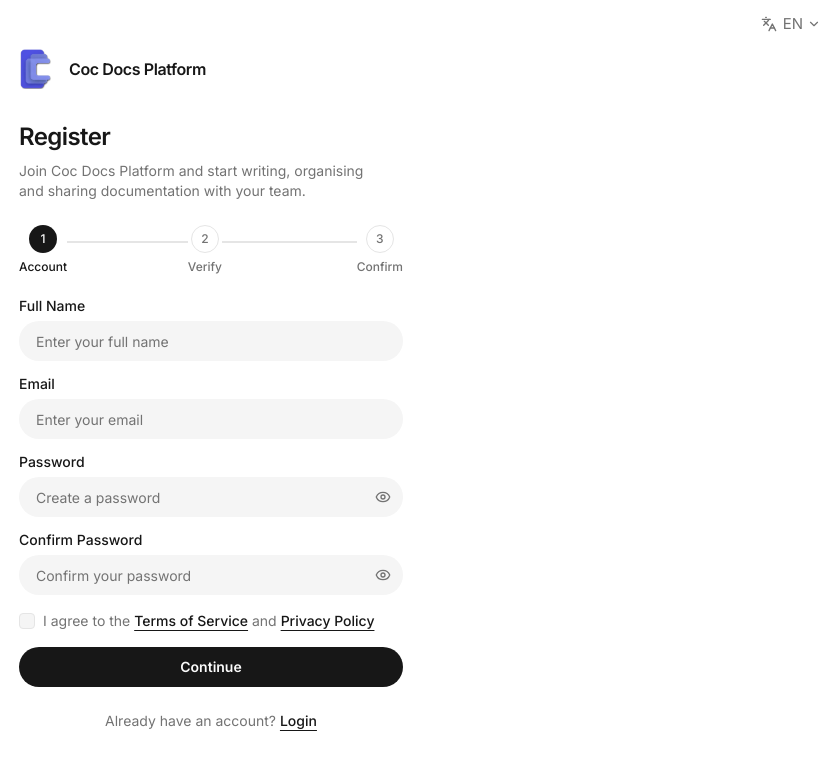
Test: RegisterPage › points at the email field for an already-registered address, and stays on the form
Type "New Person" into the field labelled "Full Name". click: [211, 341]
box: [19,321,403,361]
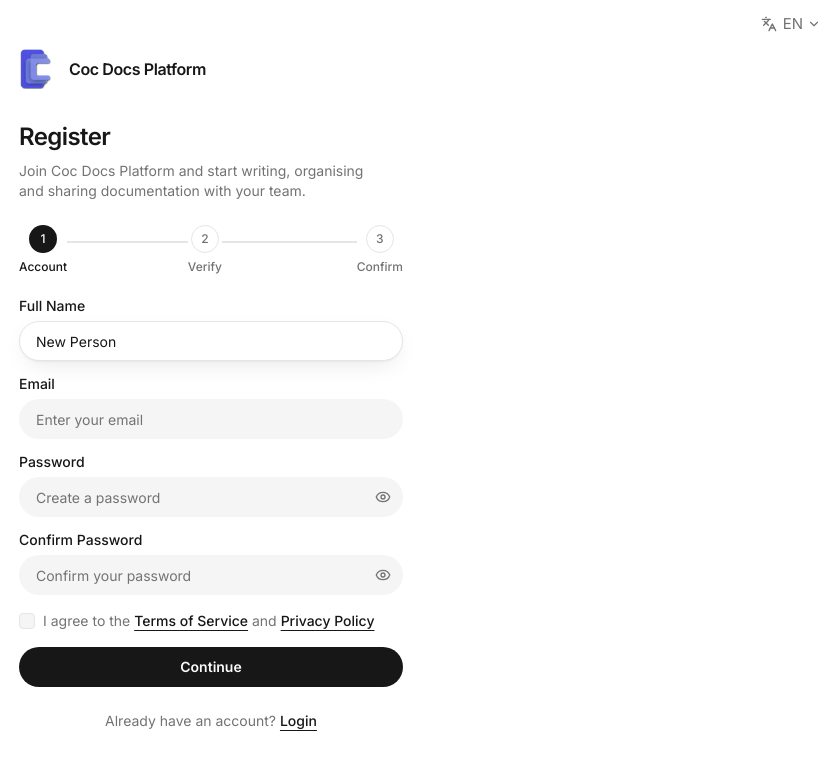
Type "new.person@example.com" into the field labelled "Email". click: [211, 419]
box: [19,399,403,439]
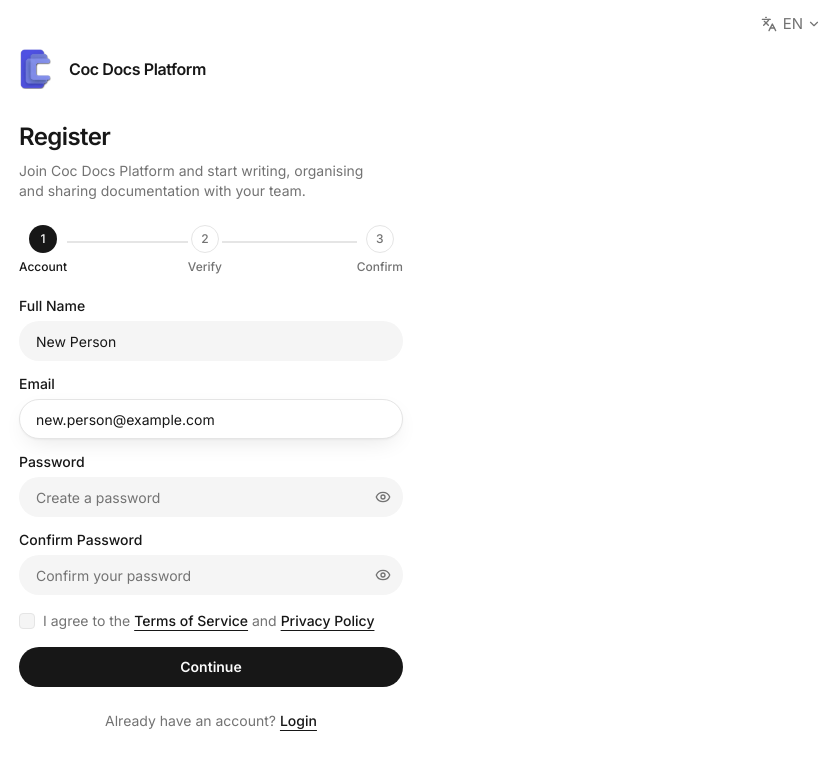
Type "Hunter2222!x" into the password field labelled "Password". click: [211, 497]
box: [19,477,403,517]
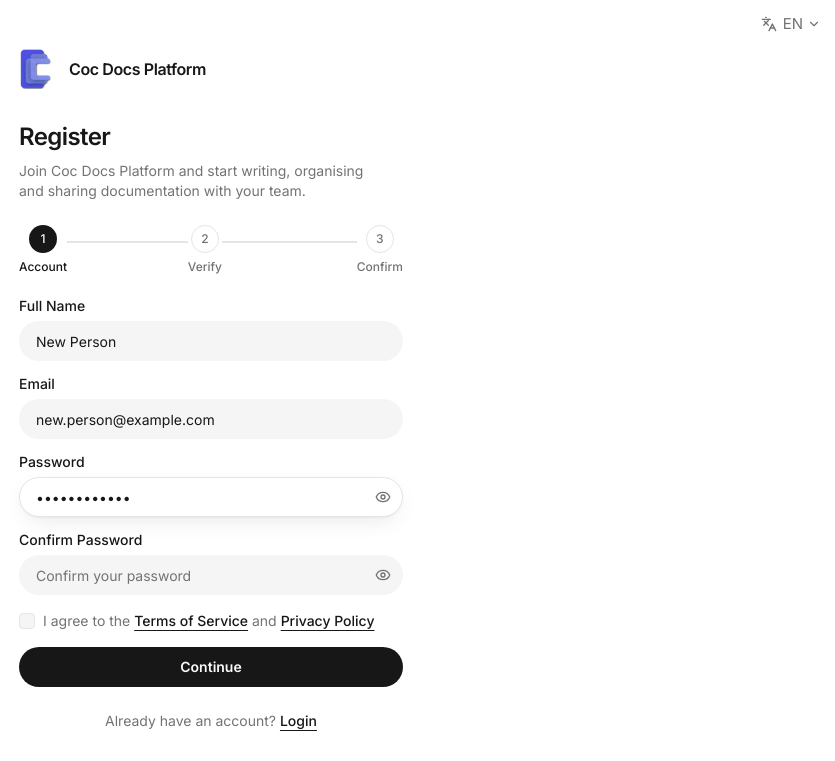
Type "Hunter2222!x" into the password field labelled "Confirm Password". click: [211, 575]
box: [19,555,403,595]
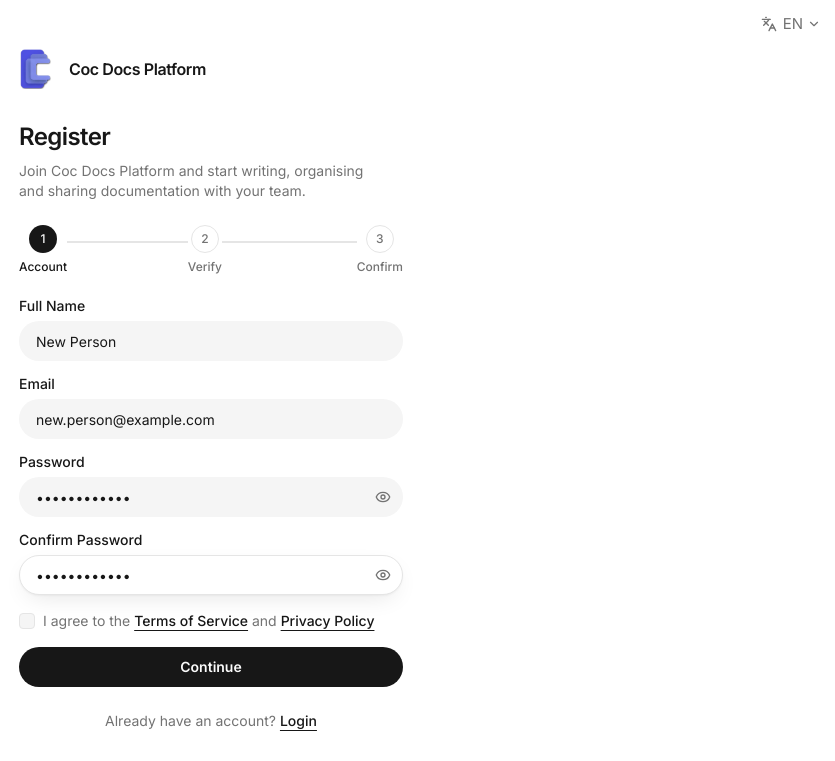
Click the checkbox labelled "I agree to the Terms of Service and Privacy Policy". click: [27, 621]
box: [19,613,35,629]
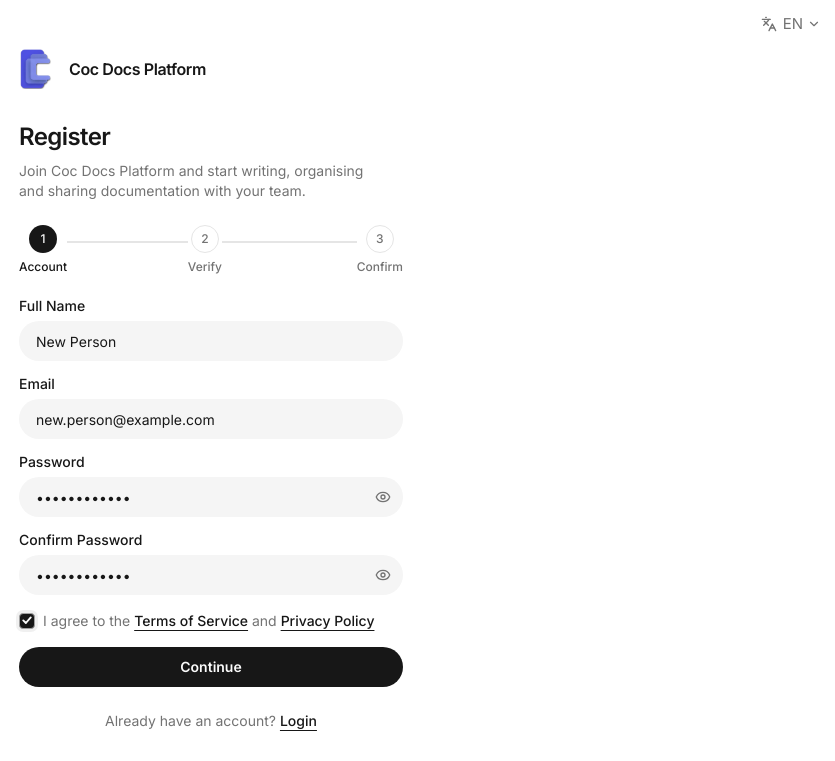
Click the button "Continue". click: [211, 667]
box: [19,647,403,687]
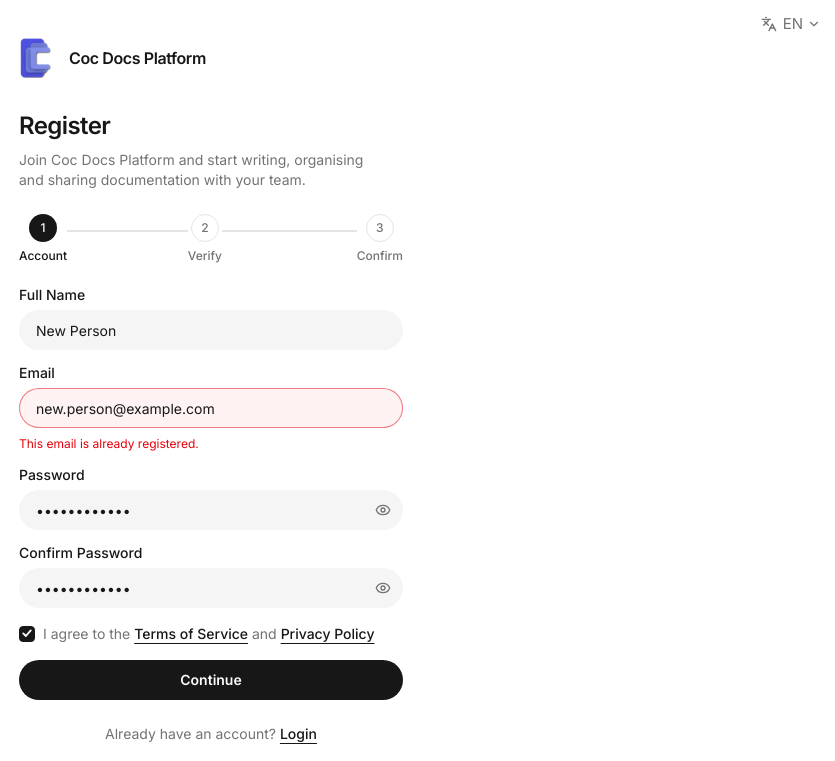
expect the text "This email is already registered." is shown: met, box [19,436,199,451]
